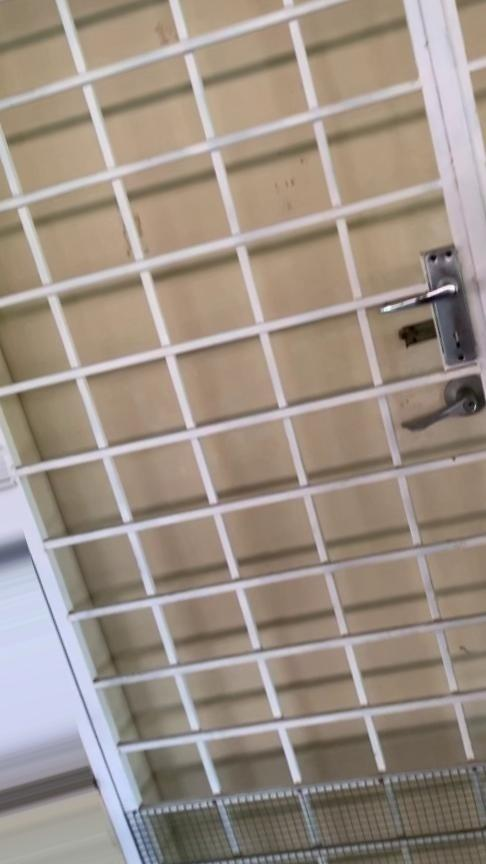door: (1, 1, 481, 864)
